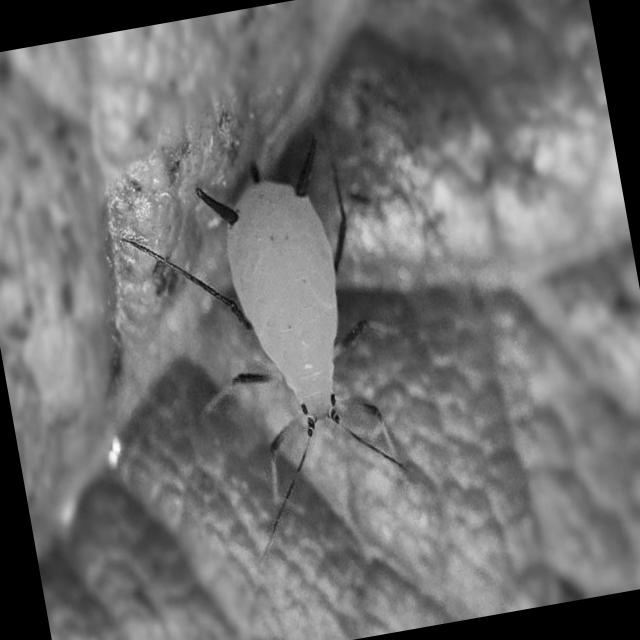Aphids: (118, 110, 453, 544)
